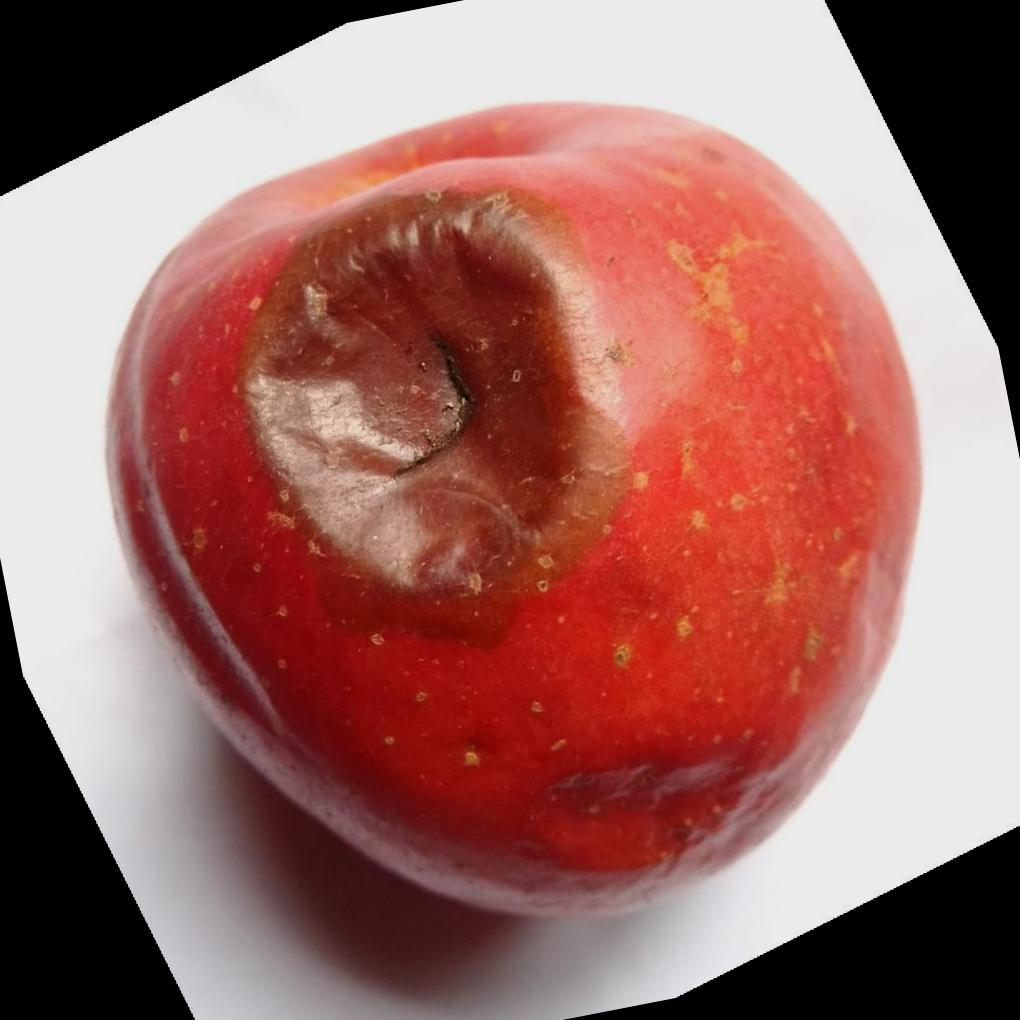FreshOrange: (104, 98, 927, 926)
